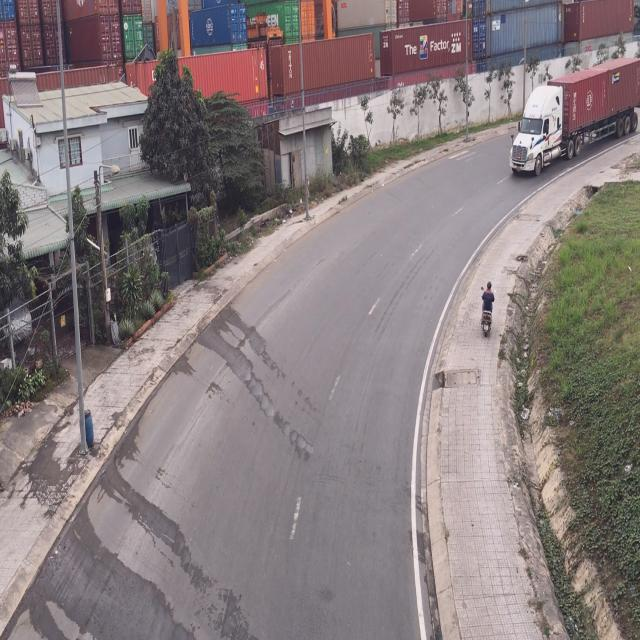motorbike: (481, 282, 494, 339)
truck: (507, 58, 637, 180)
